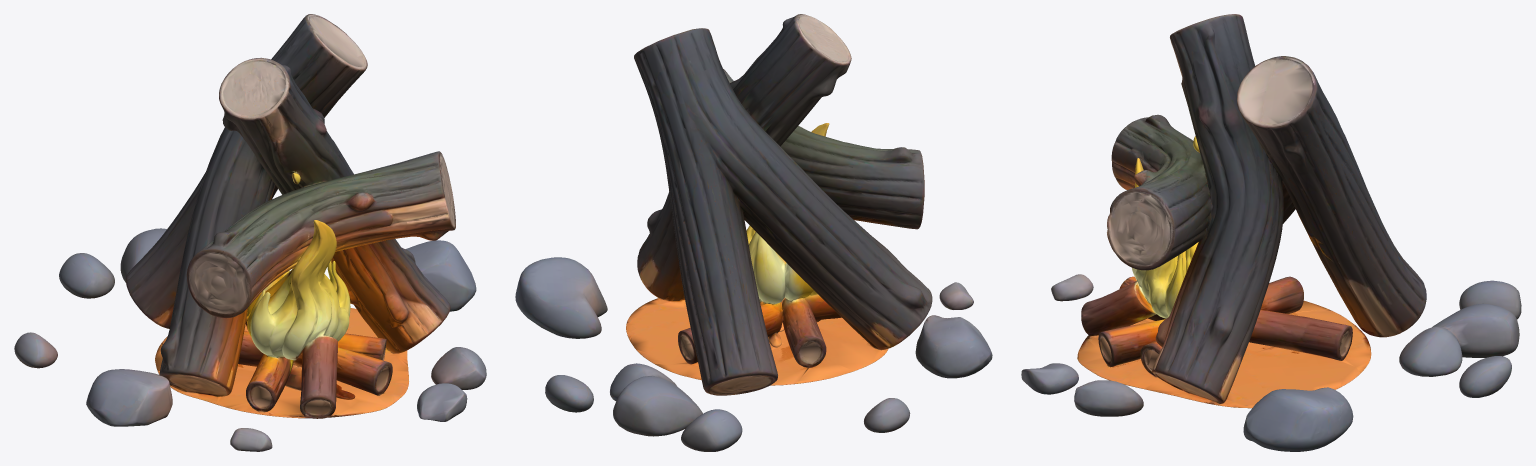
The model's file is campfire.glb.
3 views of the same model, side by side, from view 1: azimuth 30°, elevation 25°; view 2: azimuth 150°, elevation 25°; view 3: azimuth 270°, elevation 25° (orthographic). The views are drawn at different scales.
Visible parts, largest first — view 1: node_0; view 2: node_0; view 3: node_0.
Part boxes in pixels (left/top/right/bottom): node_0: left=14, top=14, right=486, bottom=451; node_0: left=515, top=14, right=992, bottom=451; node_0: left=1021, top=14, right=1521, bottom=451.
Bounding box in the file's own units: 0.945 × 0.6794 × 0.9456.
1 material, 1 textured.
